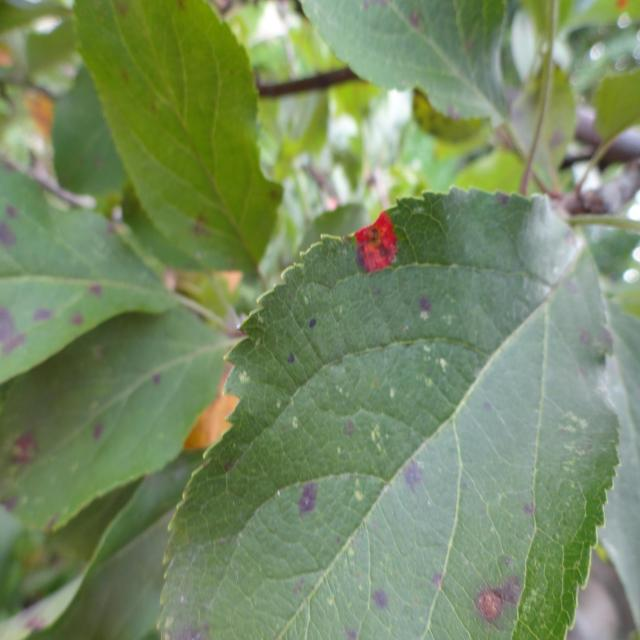Rust: (352, 200, 411, 292)
